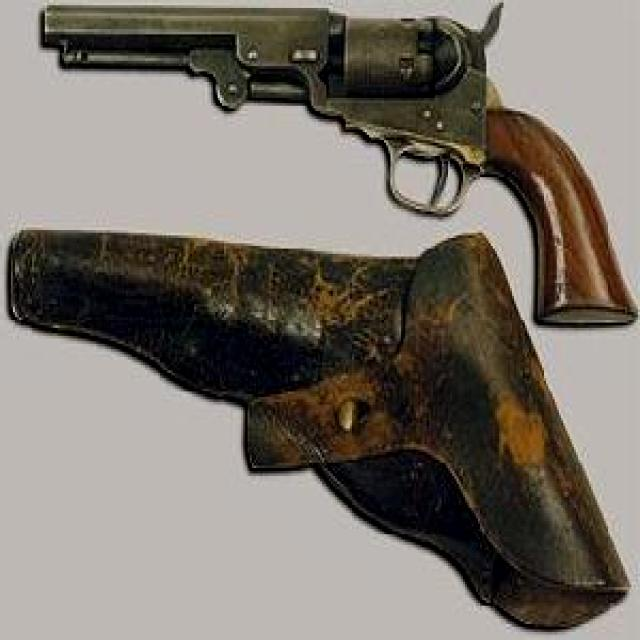pistol: (36, 0, 640, 328)
